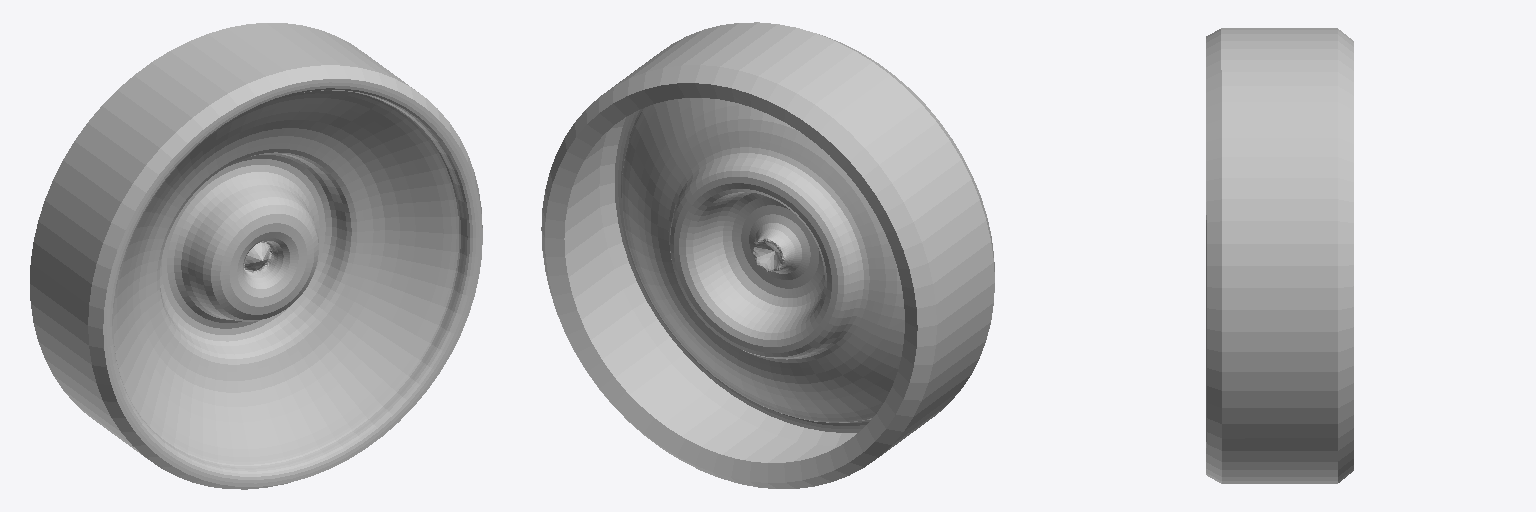
Rendered from wheel_front_left.obj.
3 views of the same model, side by side, from view 1: azimuth 30°, elevation 25°; view 2: azimuth 150°, elevation 25°; view 3: azimuth 270°, elevation 25° (orthographic).
Visible parts, largest first — view 1: wheel_front_left; view 2: wheel_front_left; view 3: wheel_front_left.
Part boxes in pixels (x1,y1,x2,y2): wheel_front_left: (30, 23, 482, 489); wheel_front_left: (541, 22, 994, 488); wheel_front_left: (1206, 28, 1353, 483).
Bounding box in the file's own units: 1.36 × 1.35 × 0.4415.